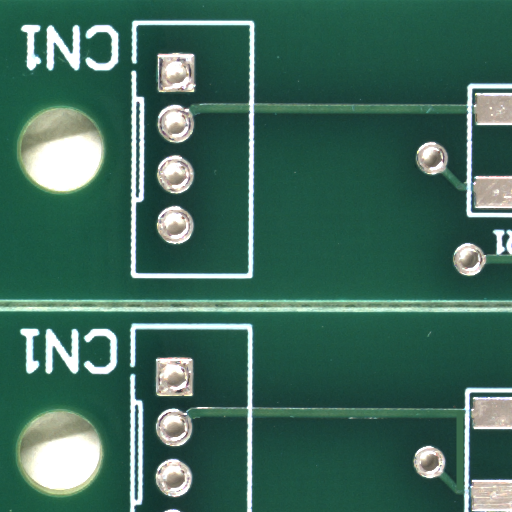Short: (459, 451, 472, 512)
